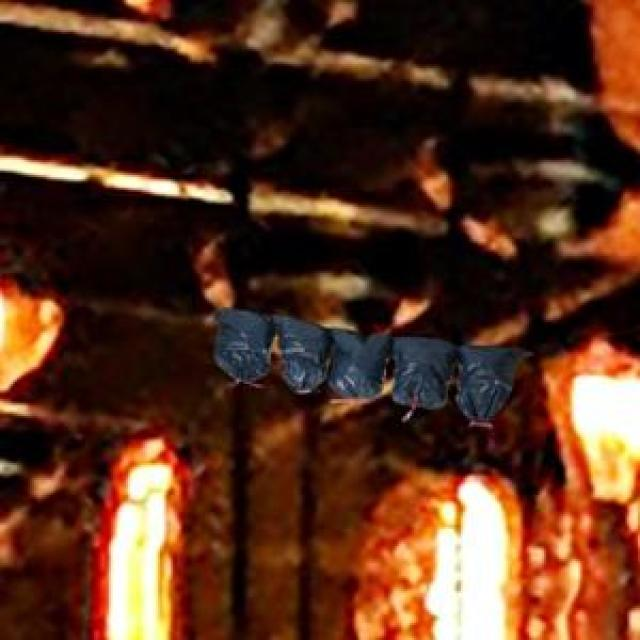Garbage_Bag: (212, 306, 524, 421)
